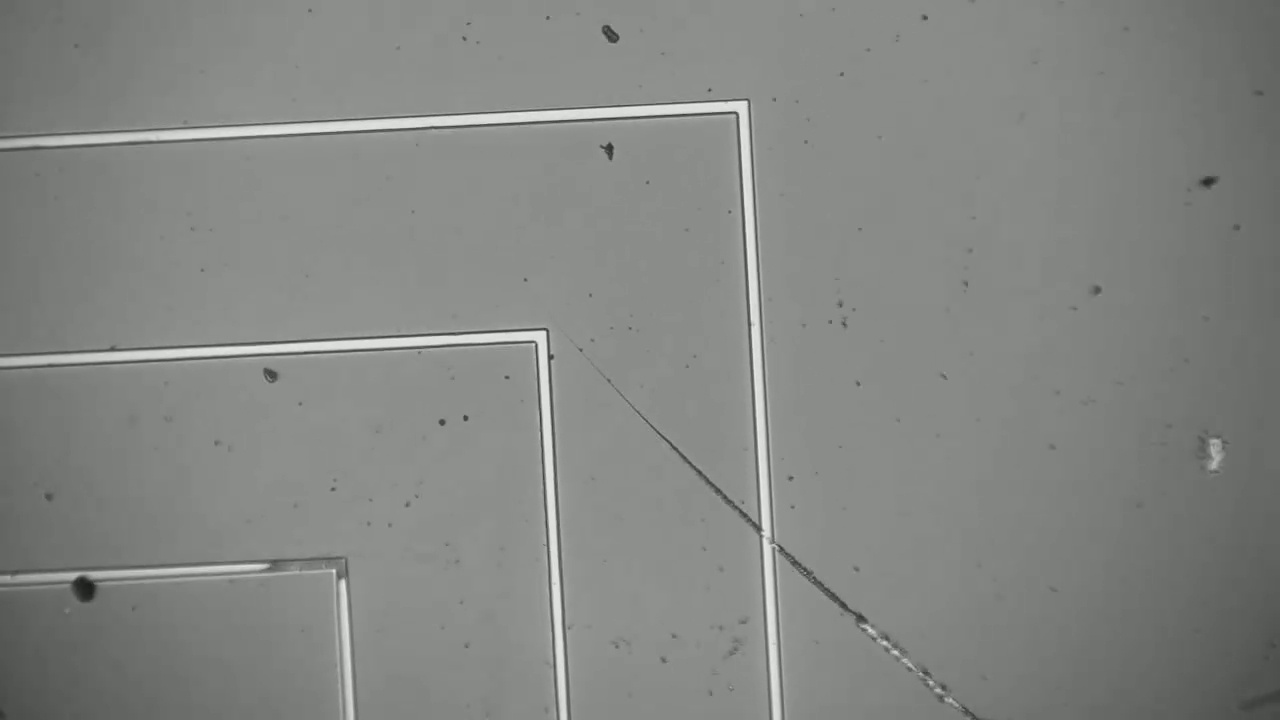gray_line: (252, 550, 364, 583), (326, 545, 361, 603)
scratch: (572, 336, 987, 719)
stains_enbedded: (58, 560, 108, 617)
